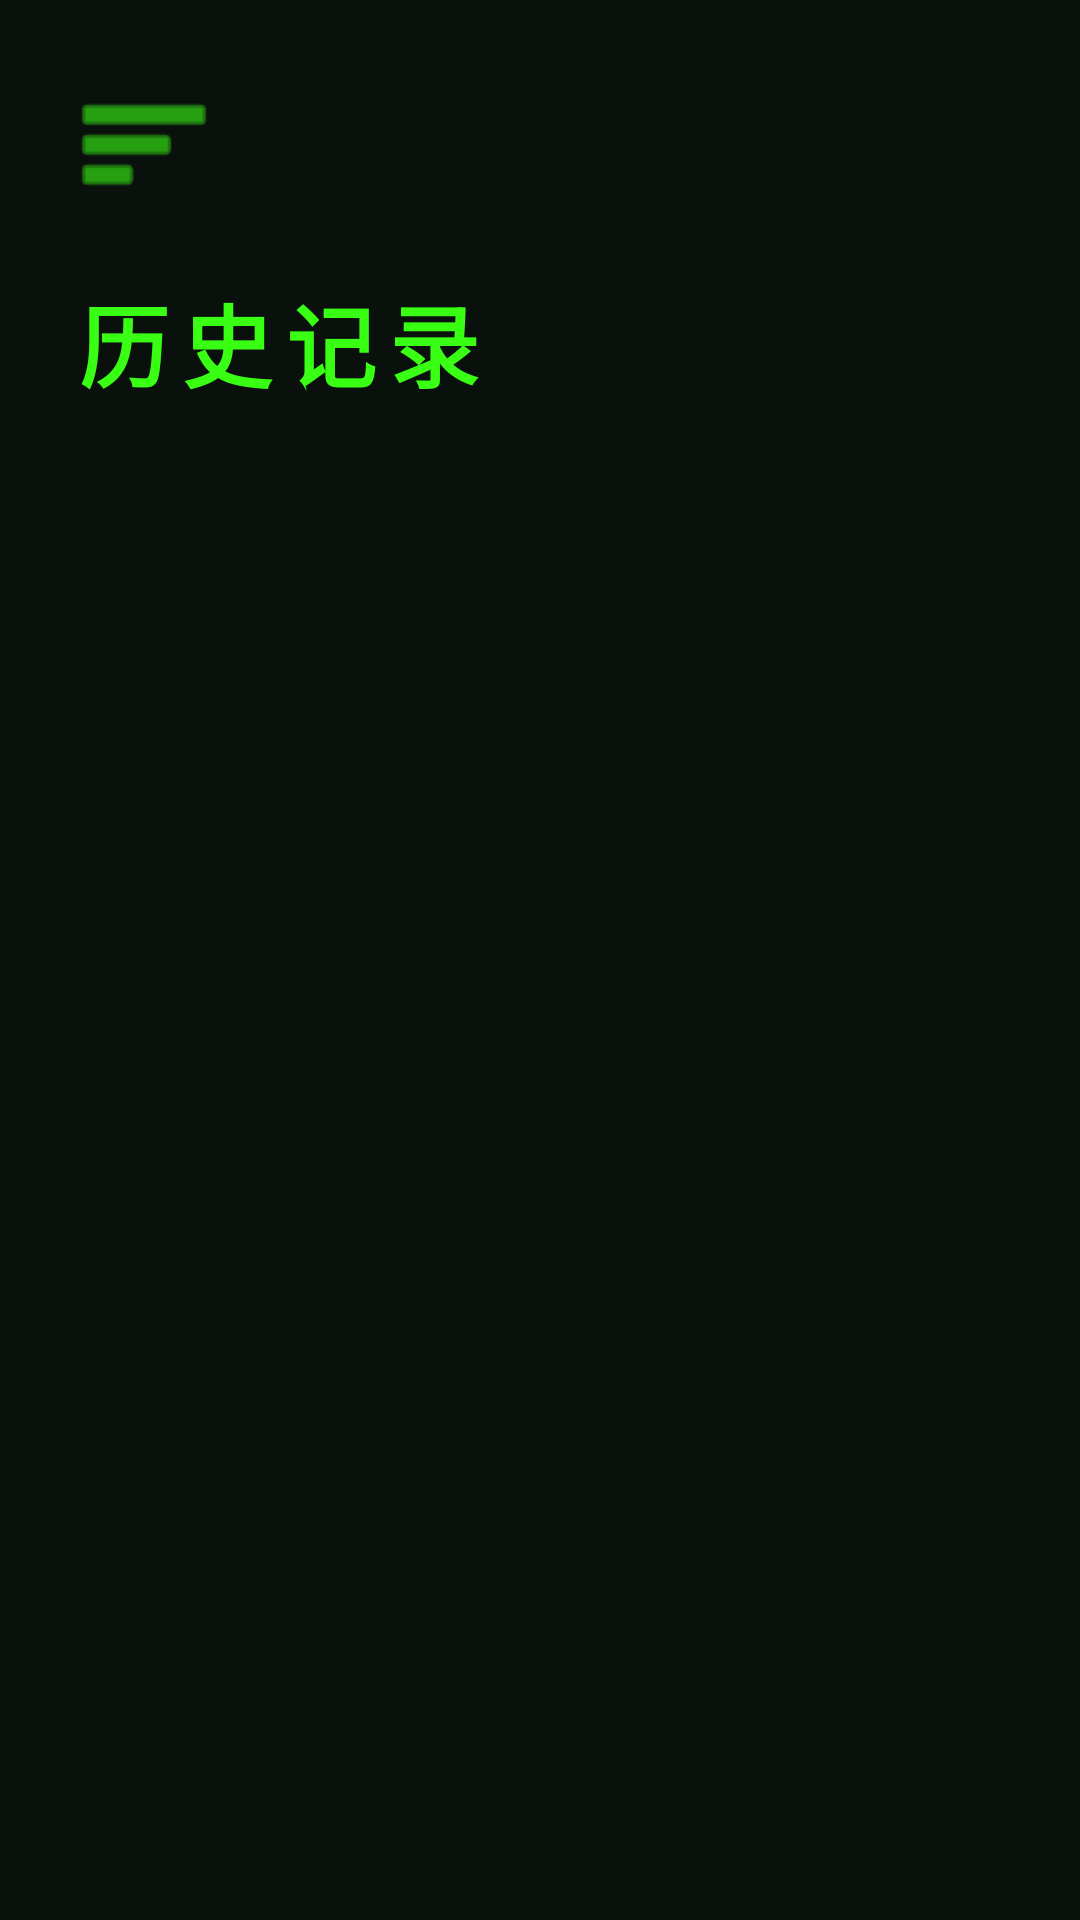

Locate icon controls on the screen. Image size 1080px x 1920px, boxes as (x1, y1, x2, y2).
menu: (82, 104, 206, 185)
